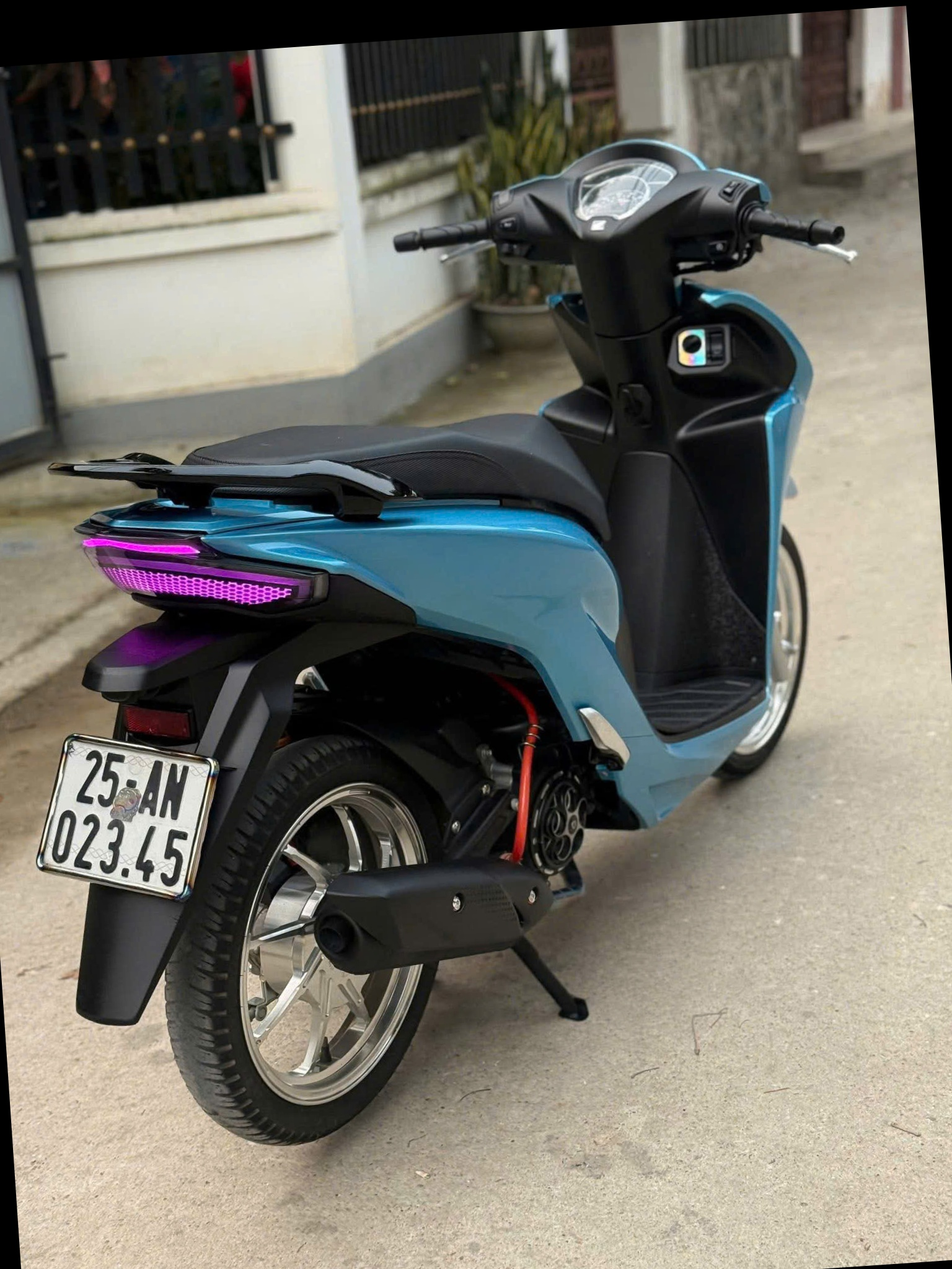Bien-so: (23, 726, 228, 911)
